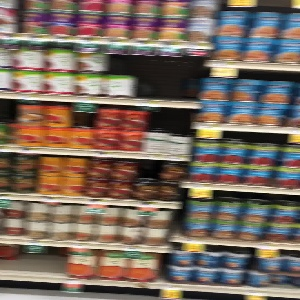void: (139, 47, 201, 103), (1, 245, 66, 276)
